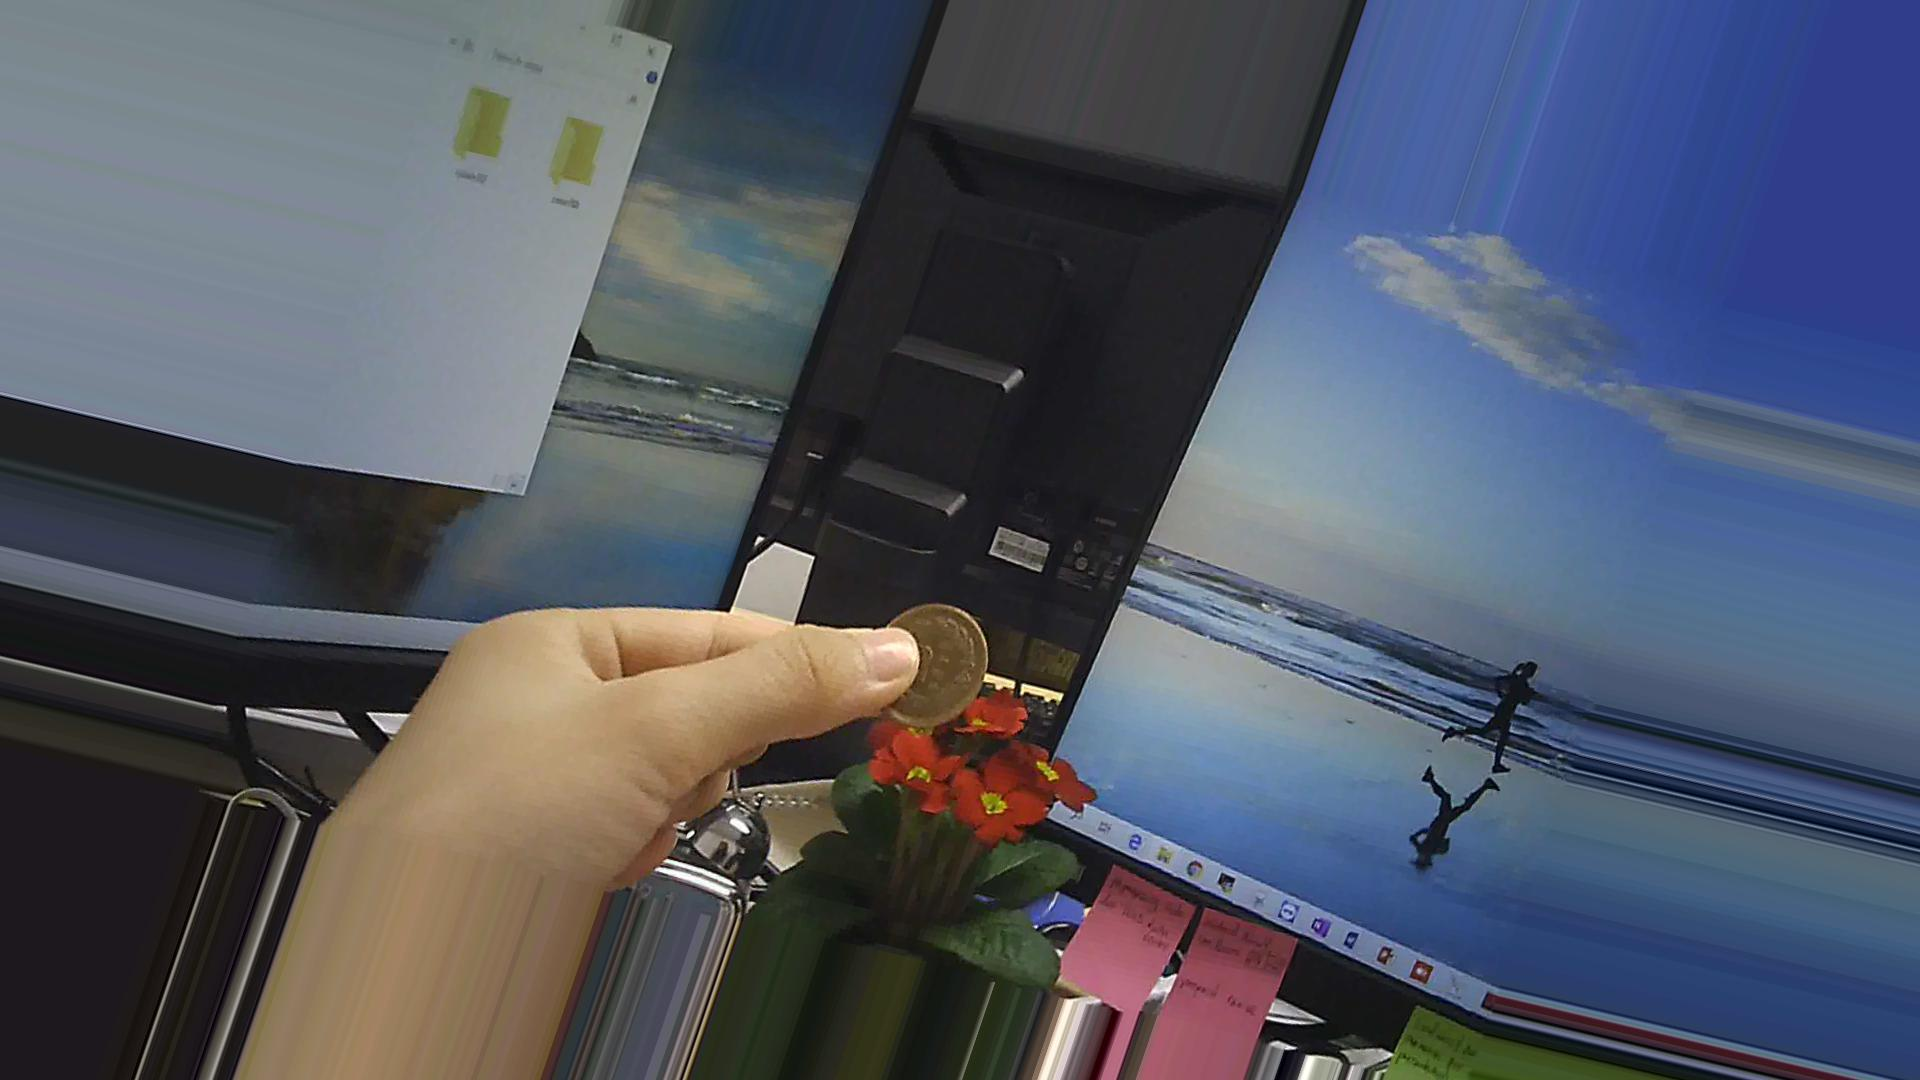10 Yen: (872, 597, 1010, 731)
